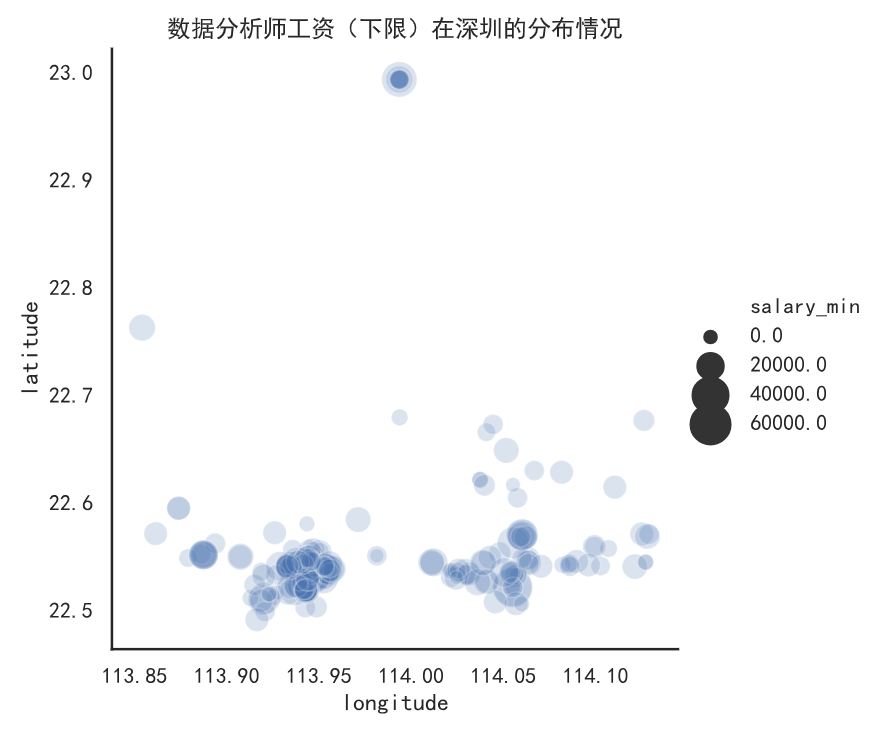

Layout of this report page (visuals, bound fields, positions):
{"tool":"powerbi","page":{"name":"Page 1","canvas":[1280,720],"ordinal":0},"visuals":[{"type":"map","fields":{"Y":["salaries of lagou data analyst.latitude"],"X":["salaries of lagou data analyst.longitude"],"Size":["Sum(salaries of lagou data analyst.salary_min)"]},"box":[9.7,0,1020.7,720],"z":1}]}

Visuals, with their boxes on the page's 1280x720 design canvas (x1, y1, x2, y2). These are canvas units, not pixel positions in the 885x729 screenshot, which may show the page scaled, cropped or inside an application window:
map - salaries of lagou data analyst.latitude x salaries of lagou data analyst.longitude: crop(10, 0, 1030, 720)
